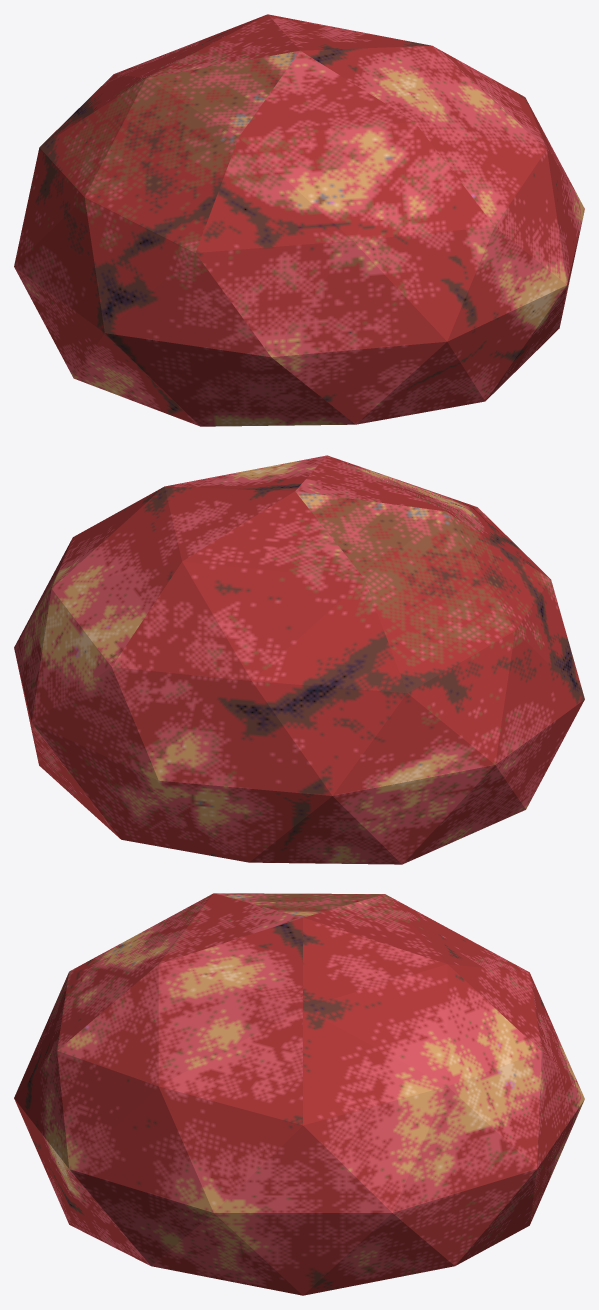
The model's file is slop.obj.
The picture shows the model from 3 angles, top to bottom: view 1: azimuth 30°, elevation 25°; view 2: azimuth 150°, elevation 25°; view 3: azimuth 270°, elevation 25°; orthographic projection.
Parts seen in each view (by area): view 1: Icosphere; view 2: Icosphere; view 3: Icosphere.
Boxes of the visible parts, x1,y1,x2,y2 form: Icosphere: (14,14,584,426); Icosphere: (14,455,584,864); Icosphere: (14,893,584,1295).
Size of the model in its own units: 2.55 by 1.43 by 2.65.
